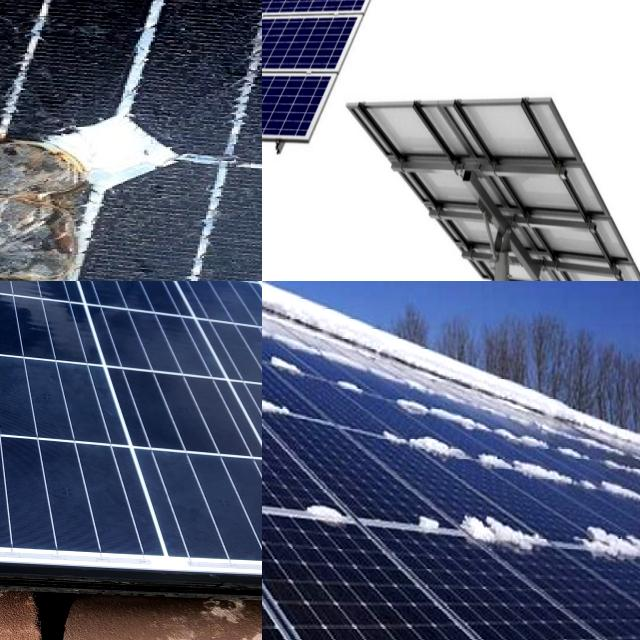crack: (0, 281, 262, 600), (262, 0, 451, 168)
panel: (394, 433, 640, 496), (332, 352, 479, 412), (262, 281, 369, 341), (458, 492, 558, 554), (262, 447, 330, 527), (574, 505, 640, 568), (297, 483, 355, 529), (262, 281, 308, 322), (262, 359, 303, 400), (262, 386, 300, 422), (423, 506, 446, 542)
shadow: (0, 83, 146, 281)
